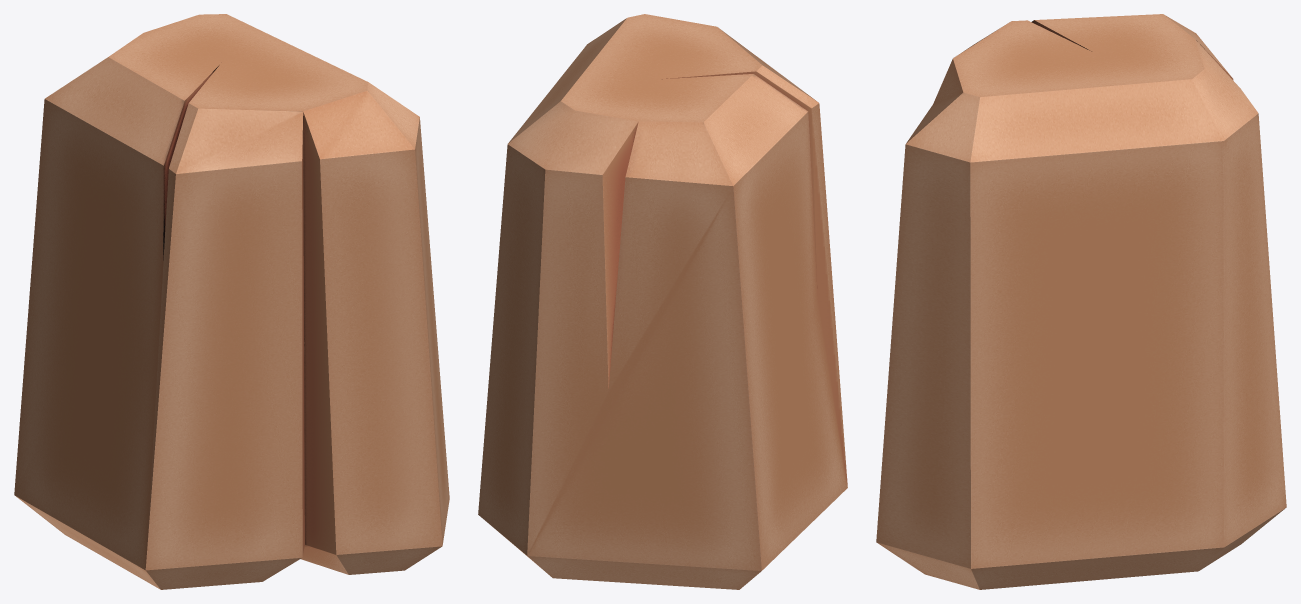
The model's file is desert_scatter_11.glb.
3 renders of one model, left to right at view 1: azimuth 30°, elevation 25°; view 2: azimuth 150°, elevation 25°; view 3: azimuth 270°, elevation 25°, orthographic. The views are drawn at different scales.
Visible parts, largest first — view 1: Rock_11_Rock_11_0; view 2: Rock_11_Rock_11_0; view 3: Rock_11_Rock_11_0.
Part boxes in pixels (<box>): Rock_11_Rock_11_0: <box>14,14,449,589</box>; Rock_11_Rock_11_0: <box>478,14,847,589</box>; Rock_11_Rock_11_0: <box>876,14,1286,589</box>.
Bounding box in the file's own units: 0.7906 × 1.1 × 0.8651.
1 material, 1 textured.
